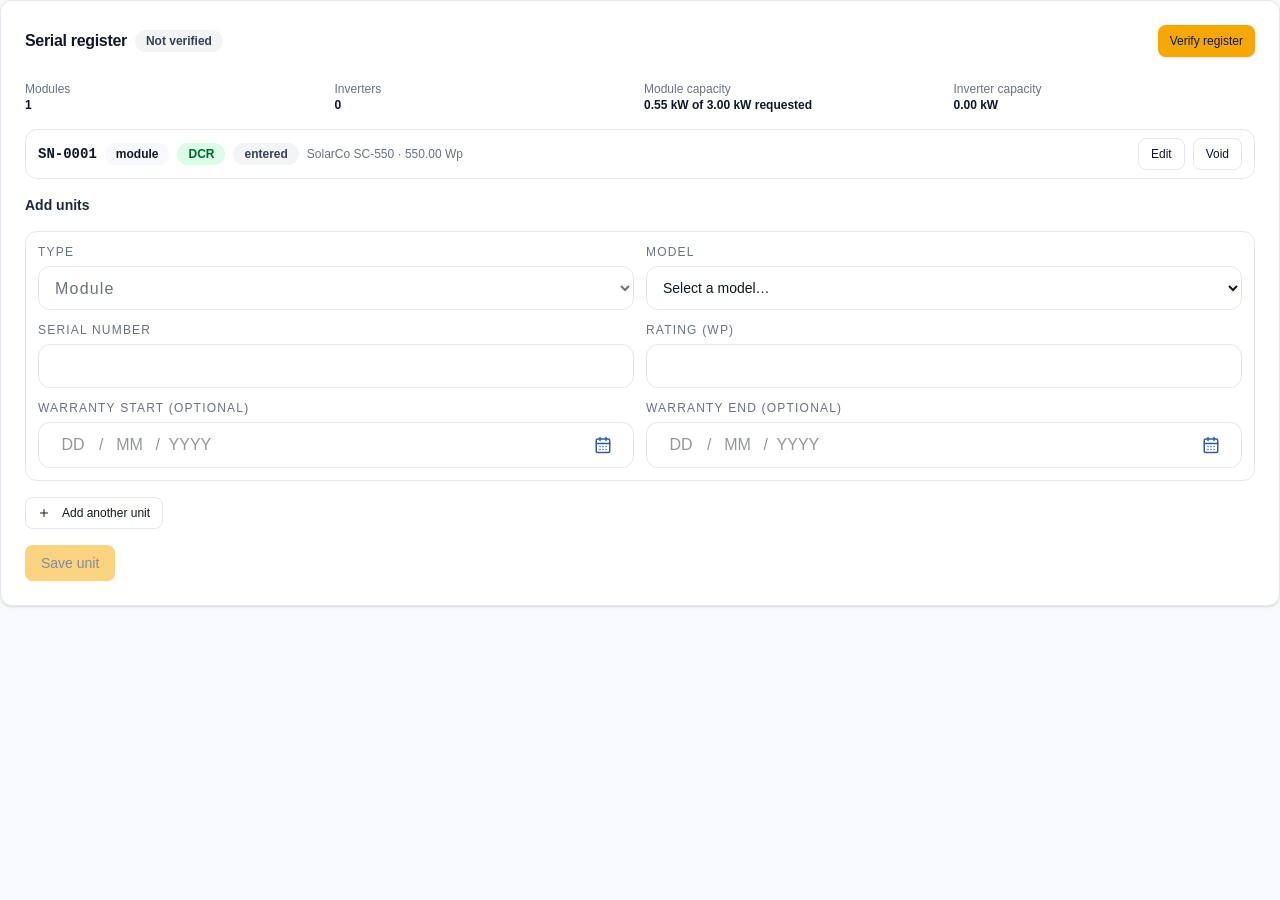
Scenario: RegisterPanel — entry › saves one unit through the single endpoint with ratings as typed strings and the DCR flag from the catalogue
Select "SolarCo SC-550" in the dropdown labelled "Model": coordinates (944, 288) [646,266,1242,310]
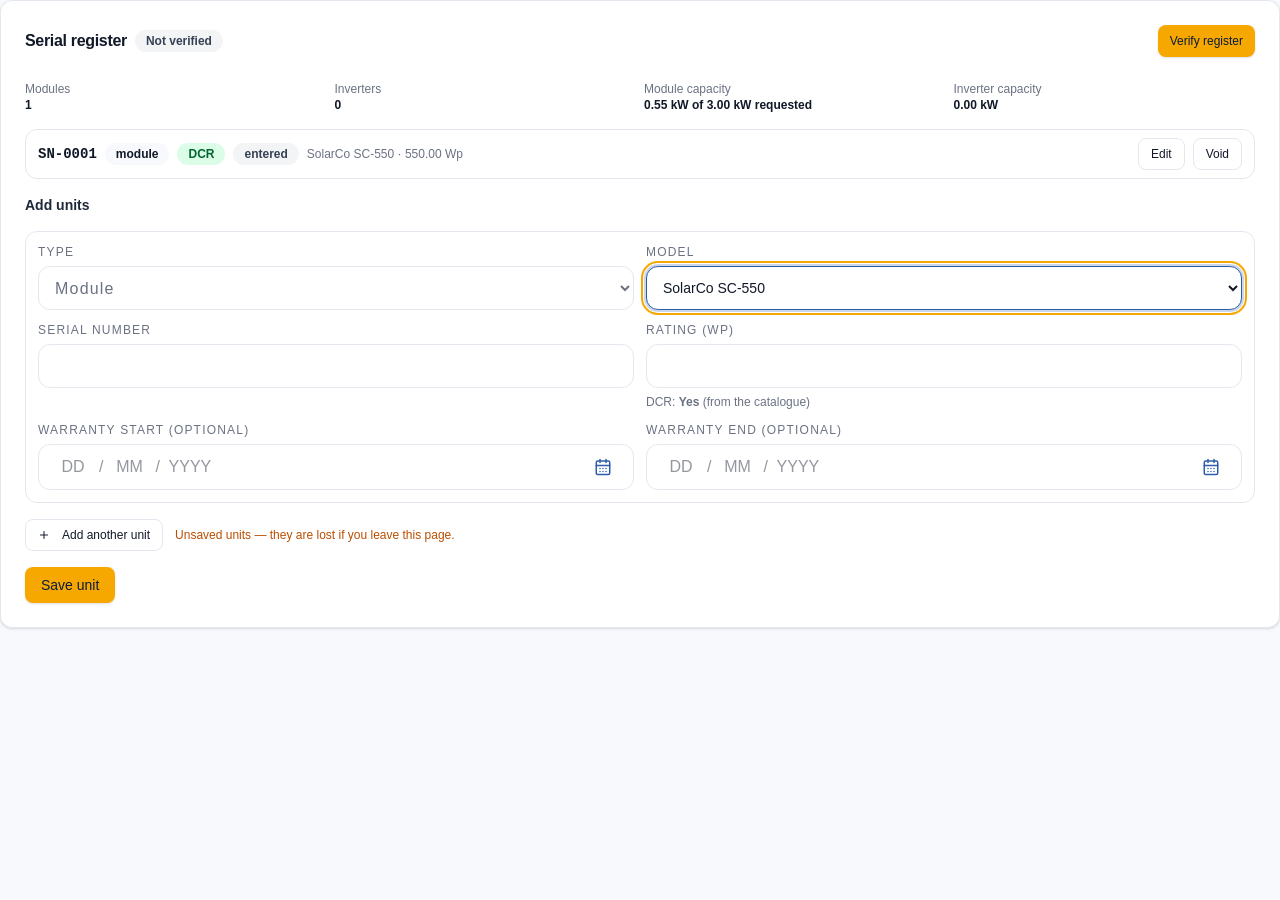
In the field labelled "Serial number": coordinates (336, 366) [38,344,634,388], type "SN-77"
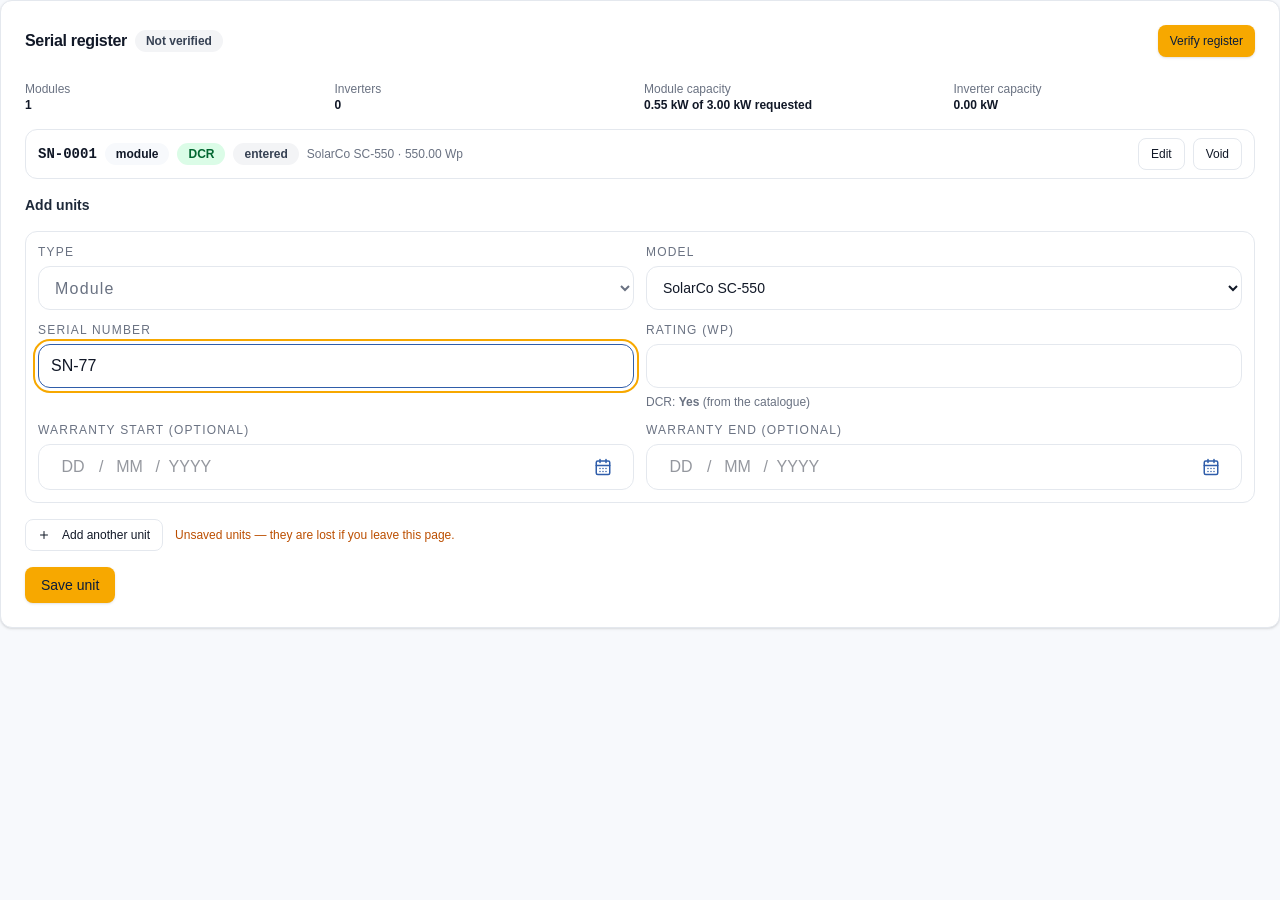
In the field labelled "Rating (Wp)": coordinates (944, 366) [646,344,1242,388], type "549.5"
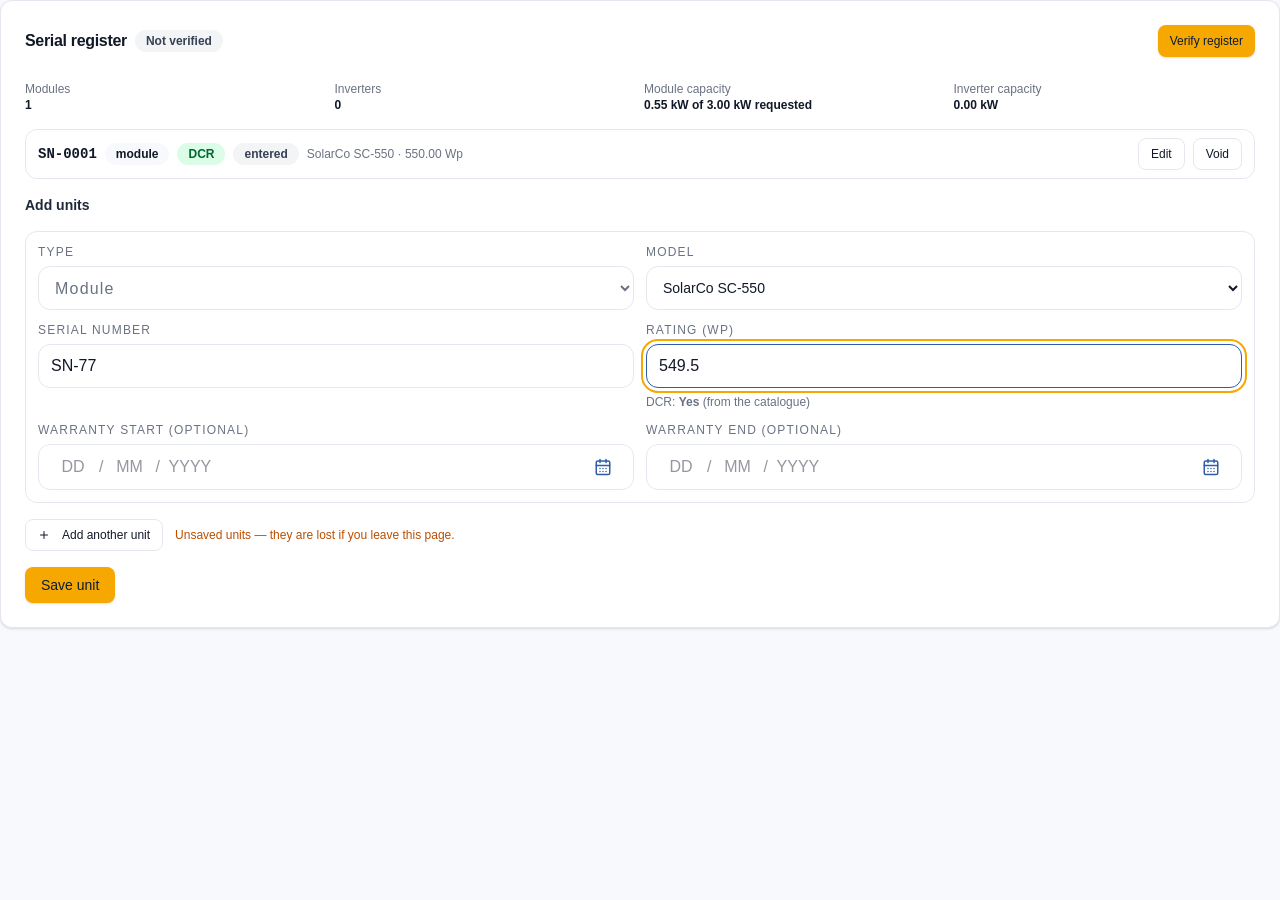
Now the element with test id "dcr-locked" reads "DCR: Yes (from the catalogue)", box [646,395,810,409]
Click the button "Save unit": coordinates (70, 585) [25,567,115,603]
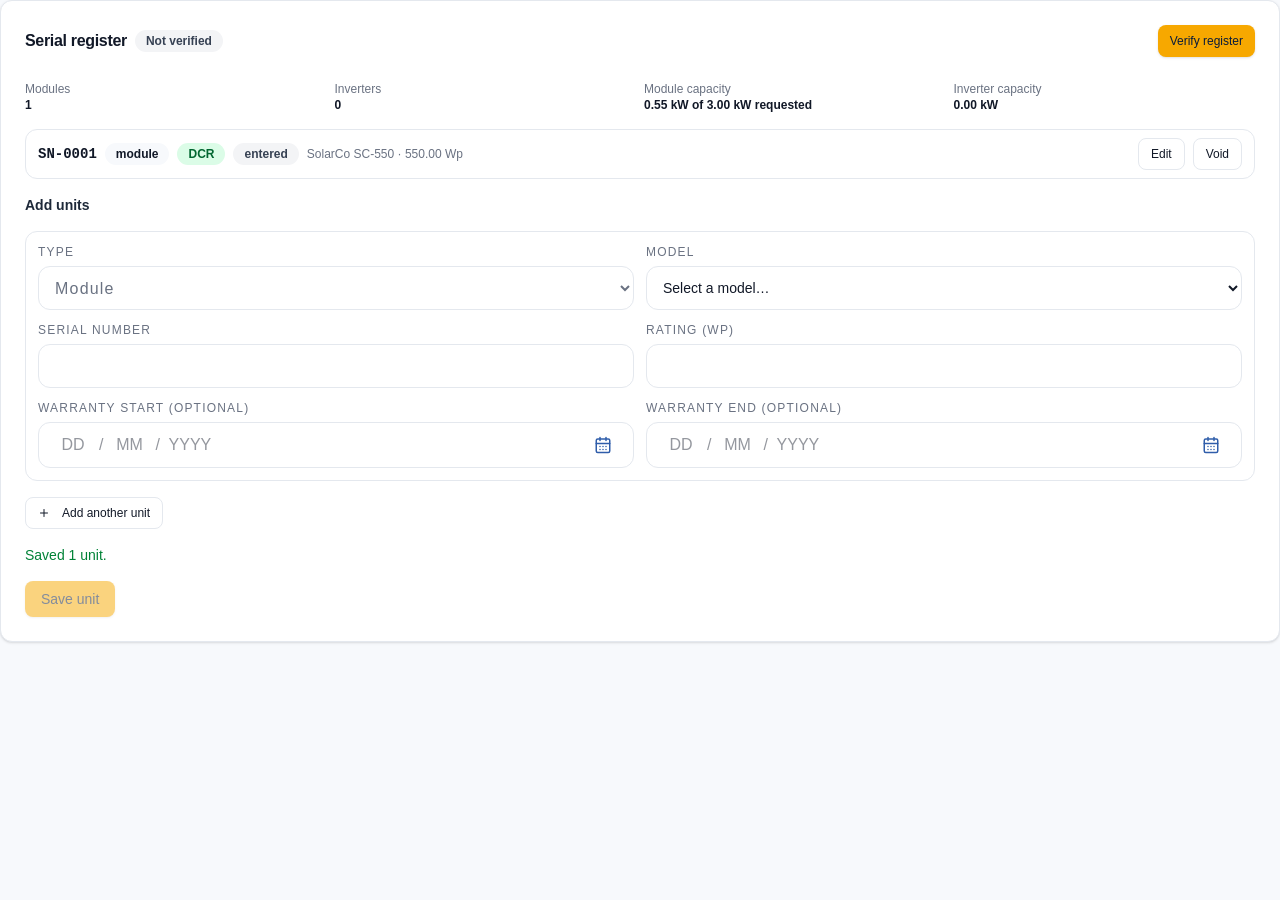
Now the message reads "Saved 1 unit.", box [25,547,107,563]
